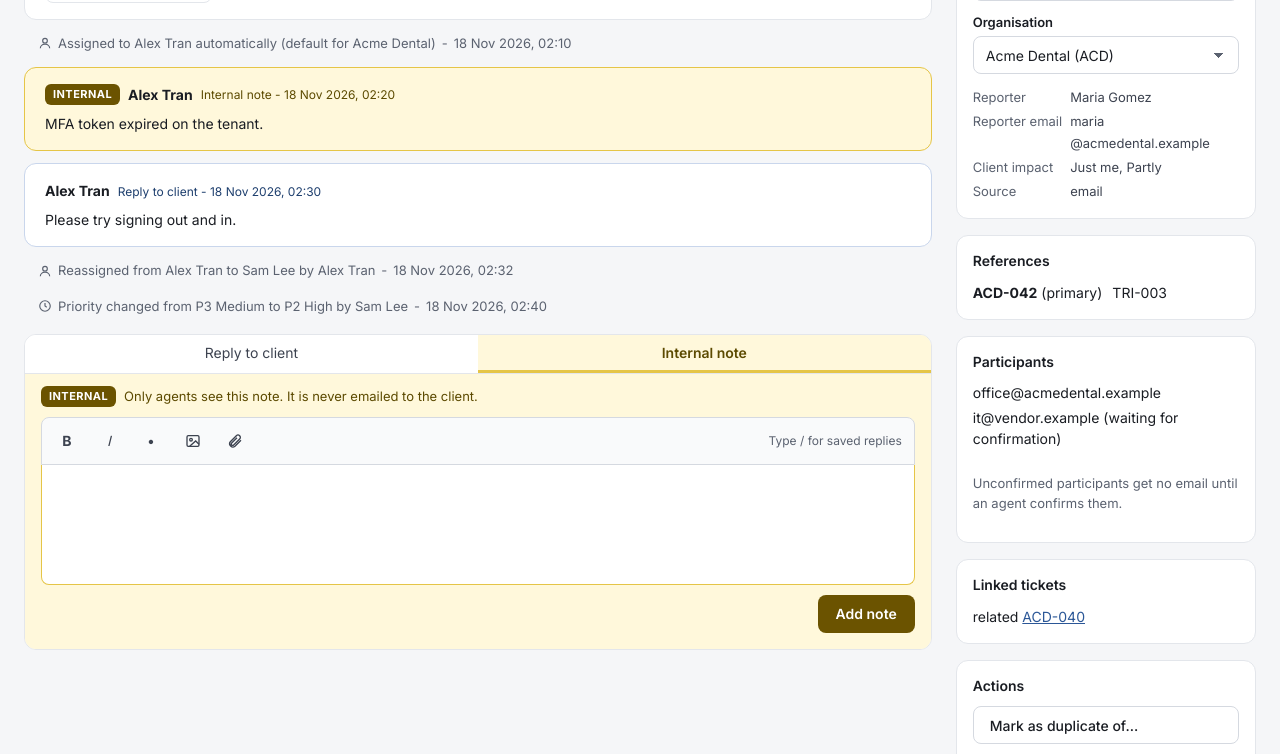
Scenario: Agent ticket page › opens the composer on Internal note when no preference exists, with To and CC on the reply tab
(page scrolled)
Click the tab "Reply to client" at (251, 354), box [25,335,478,373]
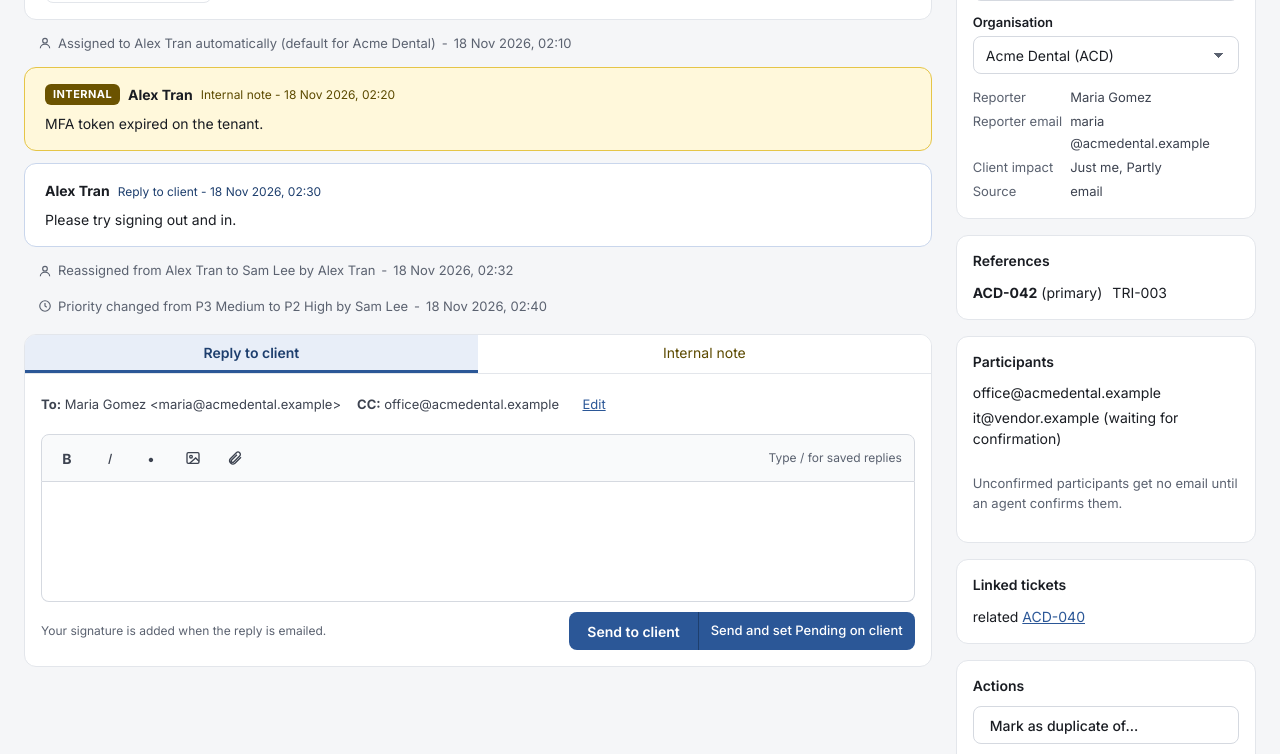
Expected: the text "Maria Gomez <maria@acmedental.example>" is shown, [65,396,341,412]
Expected: the text "office@acmedental.example" is shown, [384,396,559,412]
